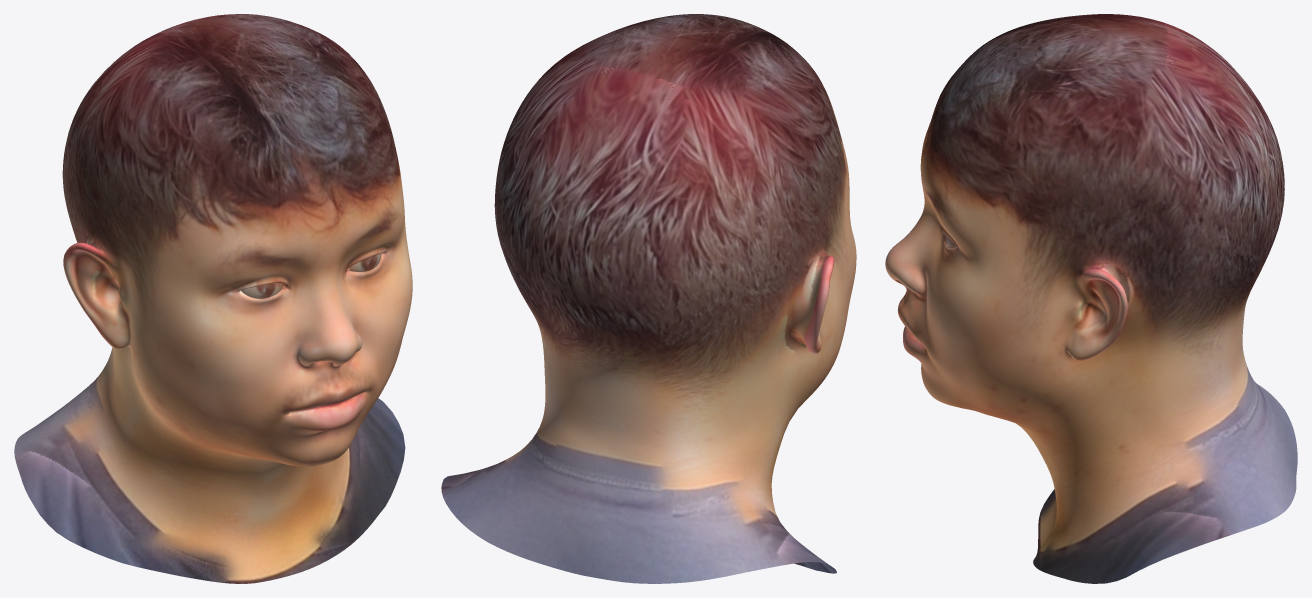
Rendered from helmi.glb.
The picture shows the model from 3 angles, left to right: view 1: azimuth 30°, elevation 25°; view 2: azimuth 150°, elevation 25°; view 3: azimuth 270°, elevation 25°; orthographic projection. The views are drawn at different scales.
Parts seen in each view (by area): view 1: FBHead; view 2: FBHead; view 3: FBHead.
Part boxes in pixels (x1=…): FBHead: x1=14, y1=14, x2=412, y2=583; FBHead: x1=441, y1=14, x2=856, y2=583; FBHead: x1=885, y1=14, x2=1297, y2=583.
Bounding box in the file's own units: 1.87 × 2.58 × 1.87.
1 material, 1 textured.
